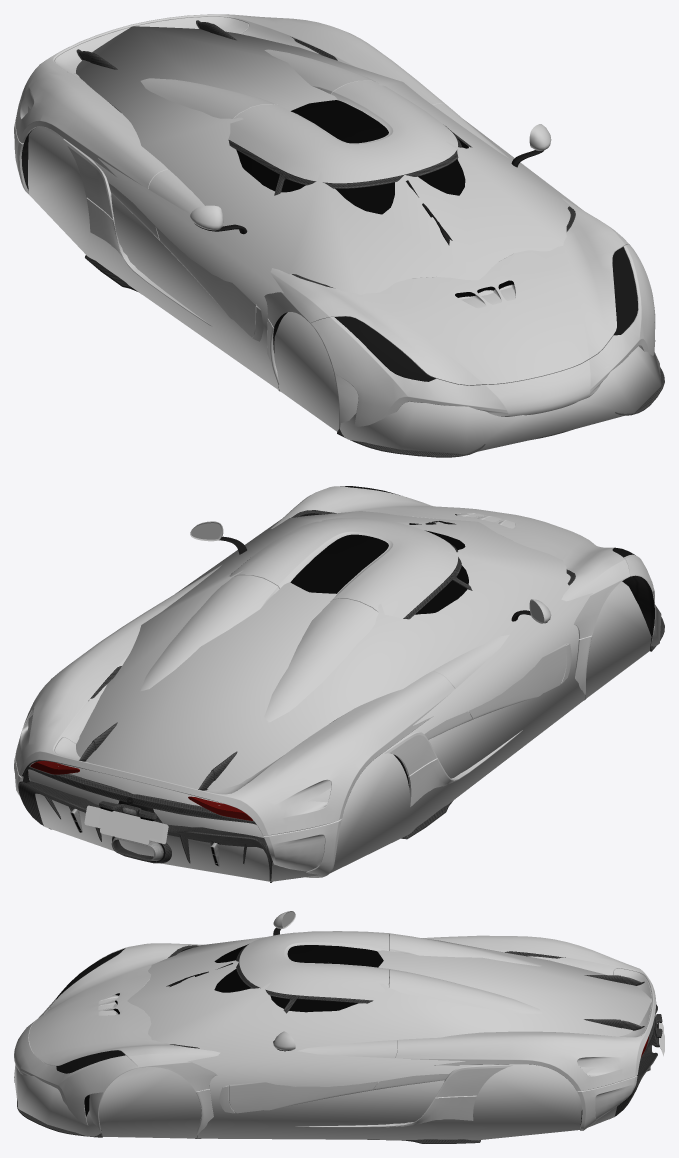
File: RMCar17.FBX
3 views of the same model, one above another, from view 1: azimuth 30°, elevation 25°; view 2: azimuth 150°, elevation 25°; view 3: azimuth 270°, elevation 25° (orthographic). The views are drawn at different scales.
Parts seen in each view (by area): view 1: RMCar17_Body_Col, RMCar17_Paint_LOD0, RMCar17_Windows_LOD0, RMCar17_Body_LOD0, RMCar17_SpoilerPaint_LOD0, RMCar17_Spoiler_LOD0; view 2: RMCar17_Body_Col, RMCar17_Paint_LOD0, RMCar17_Body_LOD0, RMCar17_Windows_LOD0, RMCar17_BrakeLights_LOD0, RMCar17_Spoiler_LOD0, RMCar17_SpoilerPaint_LOD0; view 3: RMCar17_Body_Col, RMCar17_Paint_LOD0, RMCar17_Body_LOD0, RMCar17_Windows_LOD0, RMCar17_Spoiler_LOD0, RMCar17_SpoilerPaint_LOD0.
Boxes of the visible parts, x1,y1,x2,y2 form: RMCar17_Body_Col: [28, 26, 661, 454]; RMCar17_Paint_LOD0: [14, 14, 655, 428]; RMCar17_Windows_LOD0: [236, 102, 638, 381]; RMCar17_Body_LOD0: [21, 37, 664, 457]; RMCar17_SpoilerPaint_LOD0: [54, 16, 248, 73]; RMCar17_Spoiler_LOD0: [76, 20, 236, 69]; RMCar17_Body_Col: [28, 511, 661, 881]; RMCar17_Paint_LOD0: [14, 486, 655, 877]; RMCar17_Body_LOD0: [18, 510, 664, 882]; RMCar17_Windows_LOD0: [298, 486, 635, 614]; RMCar17_BrakeLights_LOD0: [30, 761, 252, 820]; RMCar17_Spoiler_LOD0: [79, 722, 237, 790]; RMCar17_SpoilerPaint_LOD0: [54, 737, 248, 794]; RMCar17_Body_Col: [14, 936, 651, 1140]; RMCar17_Paint_LOD0: [14, 911, 656, 1134]; RMCar17_Body_LOD0: [14, 912, 662, 1143]; RMCar17_Windows_LOD0: [56, 946, 371, 1073]; RMCar17_Spoiler_LOD0: [584, 975, 644, 1030]; RMCar17_SpoilerPaint_LOD0: [613, 968, 651, 1037].
Size of what is drawn, in the model's own units: 86.93 by 181 by 40.73.
